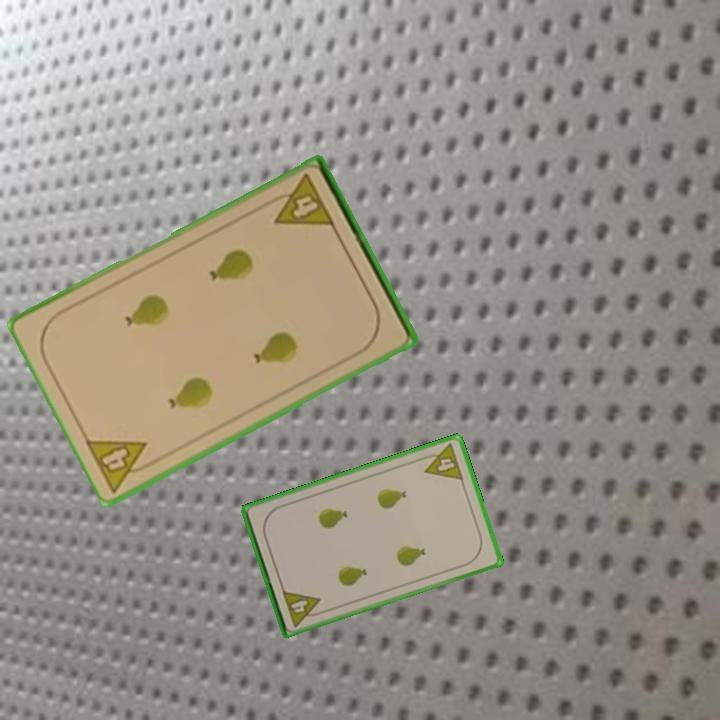4p: (82, 436, 162, 496), (263, 170, 337, 231), (417, 440, 466, 483), (279, 586, 326, 629)
